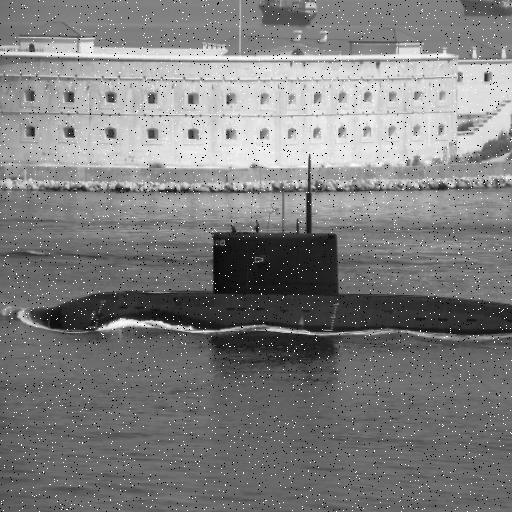submarine: (31, 157, 512, 337)
